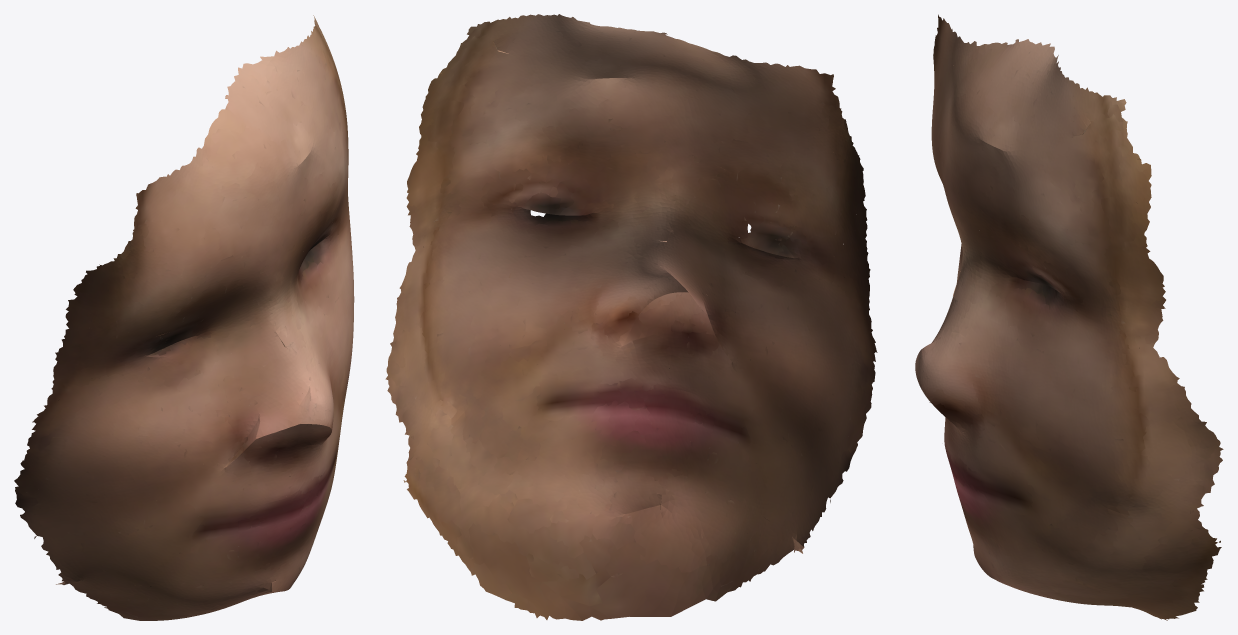
The model's file is Alice_Photogrammetry.fbx.
The picture shows the model from 3 angles, left to right: view 1: azimuth 30°, elevation 25°; view 2: azimuth 150°, elevation 25°; view 3: azimuth 270°, elevation 25°; orthographic projection. The views are drawn at different scales.
Visible parts, largest first — view 1: texturedMesh; view 2: texturedMesh; view 3: texturedMesh.
Part boxes in pixels (<box>): texturedMesh: <box>14,15,354,620</box>; texturedMesh: <box>385,14,877,620</box>; texturedMesh: <box>915,14,1223,620</box>.
Bounding box in the file's own units: 16.97 × 23.18 × 11.66.
2 materials, 2 textured.
